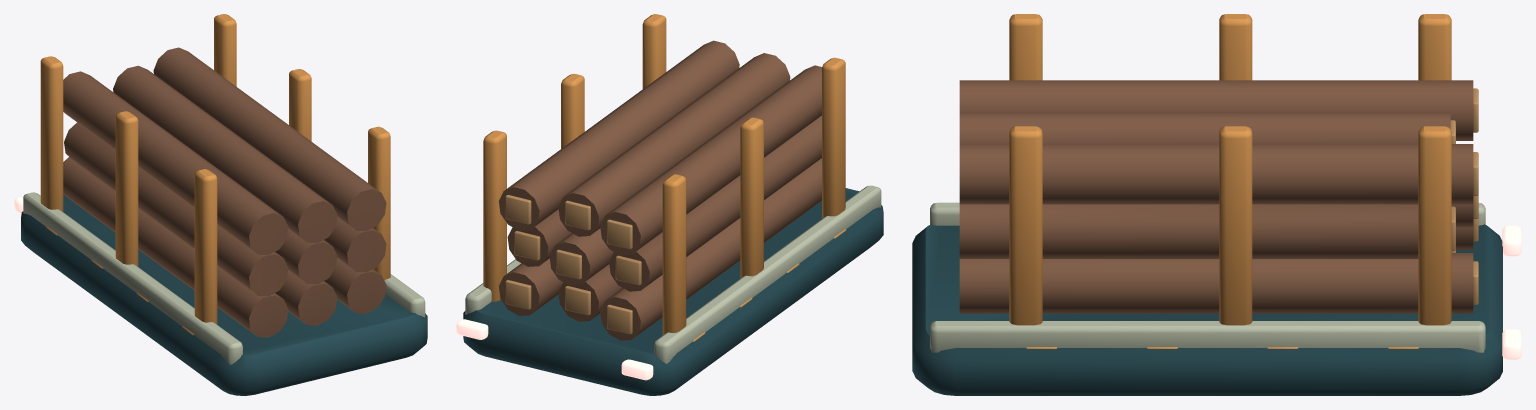
File: logging.glb
3 views of the same model, side by side, from view 1: azimuth 30°, elevation 25°; view 2: azimuth 150°, elevation 25°; view 3: azimuth 270°, elevation 25° (orthographic). The views are drawn at different scales.
Visible parts, largest first — view 1: Logging; view 2: Logging; view 3: Logging.
Part boxes in pixels (x1,y1,x2,y2): Logging: (14, 14, 427, 395); Logging: (456, 14, 883, 395); Logging: (912, 14, 1521, 395).
Size of the model in its own units: 1.83 by 1.65 by 3.49.
